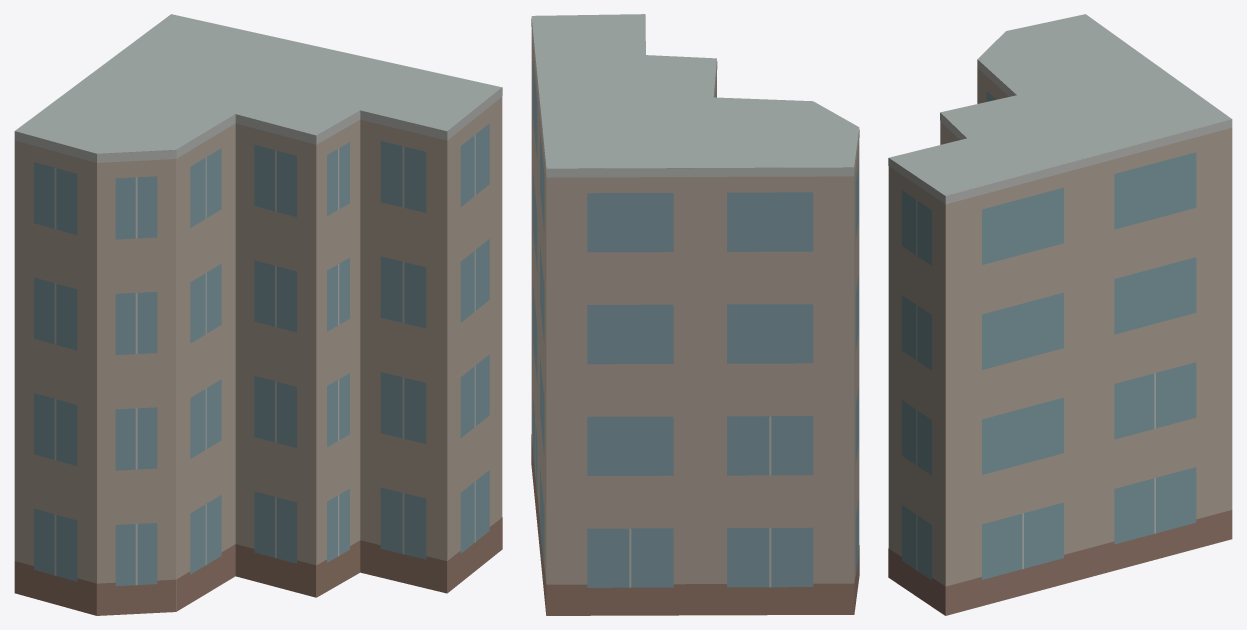
File: survey-upis-32750170.glb
3 renders of one model, left to right at view 1: azimuth 30°, elevation 25°; view 2: azimuth 150°, elevation 25°; view 3: azimuth 270°, elevation 25°, orthographic. The views are drawn at different scales.
Parts seen in each view (by area): view 1: survey-upis-32750170.tmp; view 2: survey-upis-32750170.tmp; view 3: survey-upis-32750170.tmp.
Part boxes in pixels (x1,y1,x2,y2): survey-upis-32750170.tmp: (14, 14, 502, 615); survey-upis-32750170.tmp: (531, 14, 859, 615); survey-upis-32750170.tmp: (888, 14, 1232, 615).
Size of the model in its own units: 11.35 by 12.2 by 9.06.
